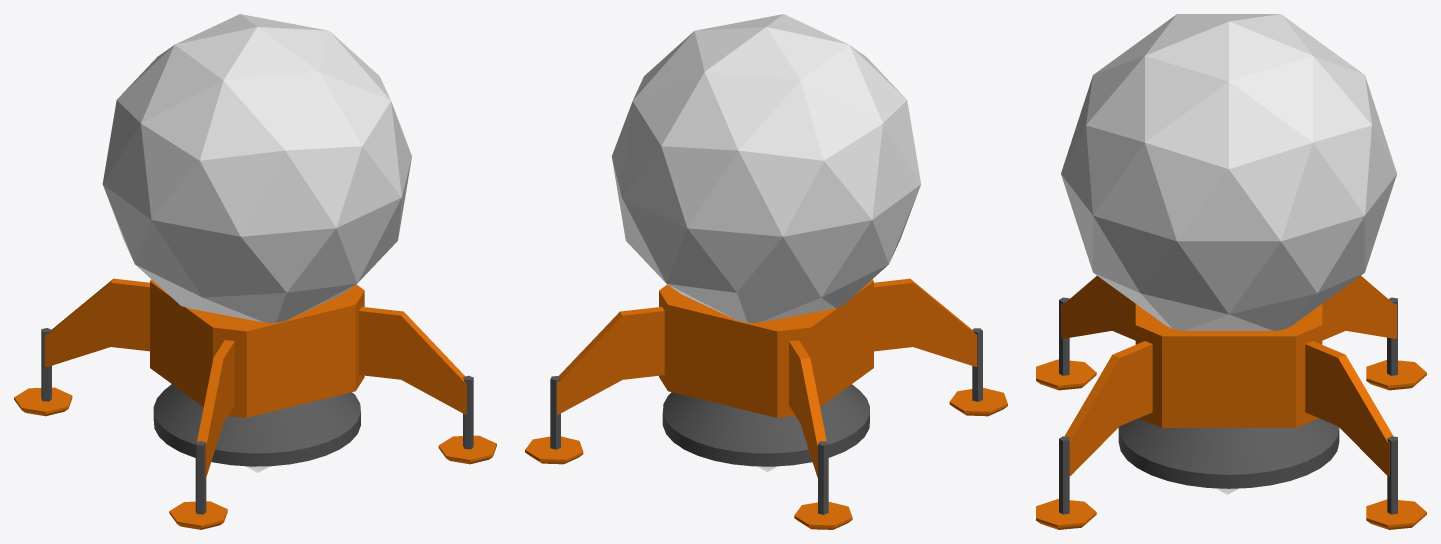
Rendered from lander.gltf.
The picture shows the model from 3 angles, left to right: view 1: azimuth 30°, elevation 25°; view 2: azimuth 150°, elevation 25°; view 3: azimuth 270°, elevation 25°; orthographic projection. The views are drawn at different scales.
Visible parts, largest first — view 1: Lander_Capsule, Lander_Base, Lander_Thruster, Lander_Foot.003, Lander_Foot.002, Lander_Foot.001, Lander_Leg.002, Lander_Leg.001, Lander_Leg.003; view 2: Lander_Capsule, Lander_Base, Lander_Thruster, Lander_Foot.001, Lander_Foot, Lander_Foot.003, Lander_Leg.003, Lander_Leg, Lander_Leg.002; view 3: Lander_Capsule, Lander_Base, Lander_Thruster, Lander_Foot.002, Lander_Foot, Lander_Foot.003, Lander_Foot.001, Lander_Leg.001, Lander_Leg, Lander_Leg.002, Lander_Leg.003.
Boxes of the visible parts, bbox=[...] form: Lander_Capsule: bbox=[102, 14, 411, 322]; Lander_Base: bbox=[45, 278, 466, 478]; Lander_Thruster: bbox=[153, 384, 360, 466]; Lander_Foot.003: bbox=[169, 501, 227, 529]; Lander_Foot.002: bbox=[438, 435, 496, 464]; Lander_Foot.001: bbox=[14, 387, 72, 416]; Lander_Leg.002: bbox=[195, 441, 206, 514]; Lander_Leg.001: bbox=[463, 375, 473, 449]; Lander_Leg.003: bbox=[41, 328, 51, 401]; Lander_Capsule: bbox=[611, 14, 920, 322]; Lander_Base: bbox=[557, 278, 977, 477]; Lander_Thruster: bbox=[662, 384, 869, 466]; Lander_Foot.001: bbox=[794, 502, 852, 529]; Lander_Foot: bbox=[525, 436, 583, 464]; Lander_Foot.003: bbox=[949, 387, 1007, 416]; Lander_Leg.003: bbox=[818, 441, 828, 514]; Lander_Leg: bbox=[550, 376, 560, 449]; Lander_Leg.002: bbox=[972, 328, 982, 401]; Lander_Capsule: bbox=[1061, 14, 1396, 330]; Lander_Base: bbox=[1061, 276, 1396, 476]; Lander_Thruster: bbox=[1118, 418, 1339, 488]; Lander_Foot.002: bbox=[1036, 499, 1096, 529]; Lander_Foot: bbox=[1366, 499, 1426, 529]; Lander_Foot.003: bbox=[1036, 359, 1096, 390]; Lander_Foot.001: bbox=[1366, 360, 1426, 390]; Lander_Leg.001: bbox=[1059, 436, 1069, 514]; Lander_Leg: bbox=[1387, 436, 1397, 514]; Lander_Leg.002: bbox=[1059, 297, 1069, 375]; Lander_Leg.003: bbox=[1387, 297, 1397, 375].
Bounding box in the file's own units: 2.11 × 2.81 × 2.1.
